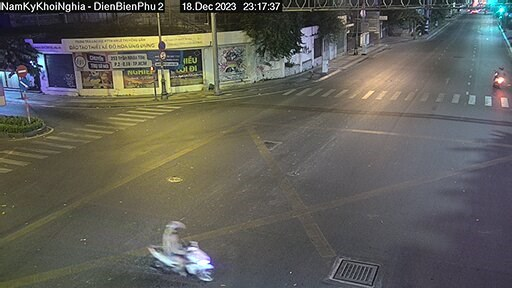motorbike: (145, 214, 223, 280)
